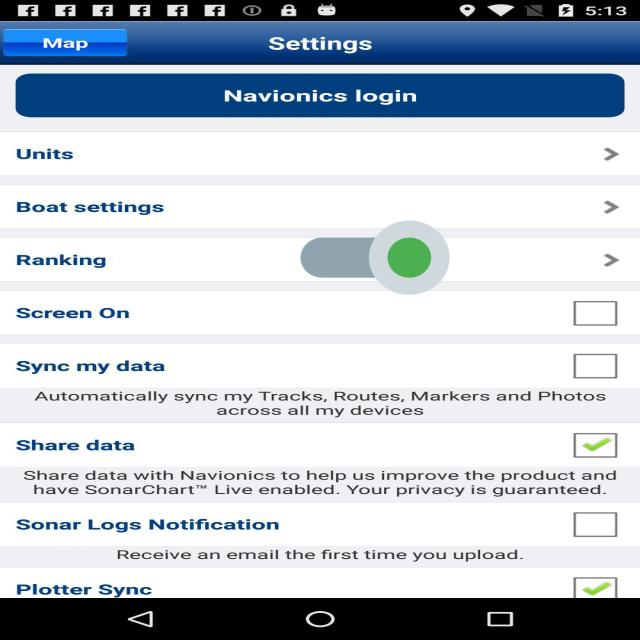social proof: (300, 189, 450, 326)
